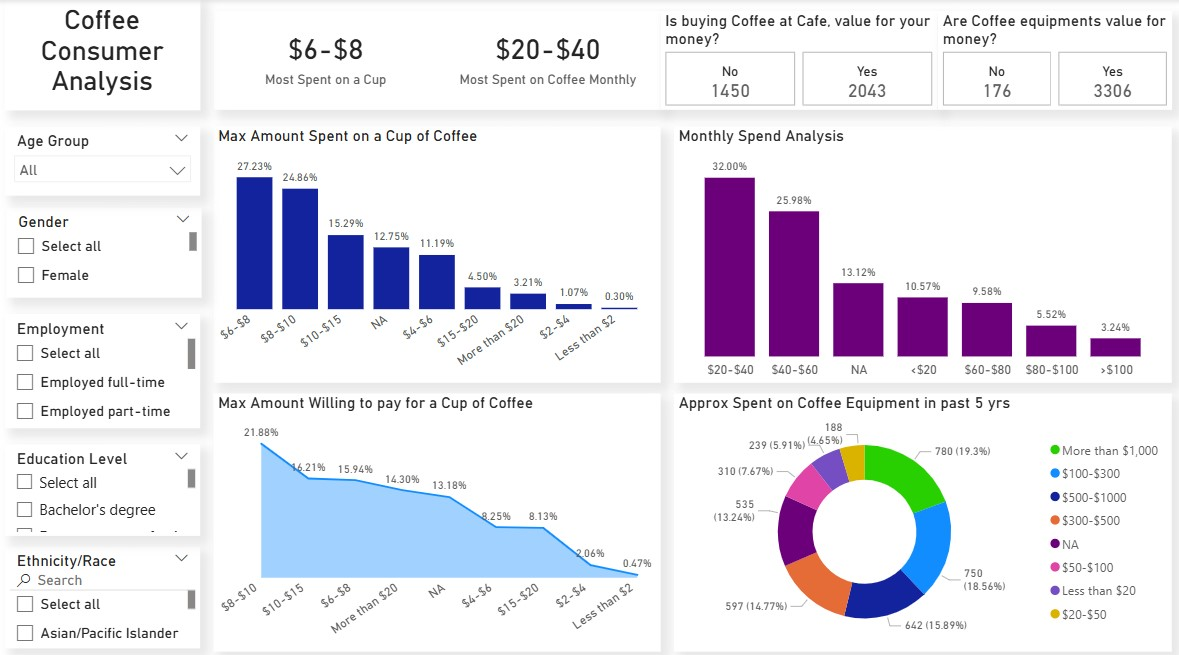

This screenshot's page, from the dashboard's own definition file:
{"tool":"powerbi","page":{"name":"Spending Analysis","canvas":[1280,720],"ordinal":3},"visuals":[{"type":"clusteredColumnChart","title":"Max Amount Spent on a Cup of Coffee","fields":{"Y":["CountNonNull(CoffeeData.Submission ID)"],"Category":["CoffeeData.What is the most you've ever paid for a cup of coffee?"]},"box":[234.8,137.6,482.5,276.9],"z":0},{"type":"slicer","fields":{"Values":["CoffeeData.Gender"]},"box":[11.3,225.1,210.5,97.2],"z":1000},{"type":"slicer","fields":{"Values":["CoffeeData.Ethnicity/Race"]},"box":[9.7,591,210.5,110.1],"z":2000},{"type":"slicer","fields":{"Values":["CoffeeData.What is your age?"]},"box":[9.7,137.6,210.5,74.5],"z":3000},{"type":"slicer","fields":{"Values":["CoffeeData.Employment Status"]},"box":[9.7,340,210.5,123.1],"z":4000},{"type":"slicer","fields":{"Values":["CoffeeData.Education Level"]},"box":[9.7,480.9,210.5,98.8],"z":5000},{"type":"areaChart","title":"Max Amount Willing to pay for a Cup of  Coffee","fields":{"Category":["CoffeeData.What is the most you'd ever be willing to pay for a cup of coffee?"],"Y":["Divide(Count(CoffeeData.Submission ID), ScopedEval(Count(CoffeeData.Submission ID), []))"]},"box":[234.8,425.9,482.5,278.5],"z":6000},{"type":"clusteredColumnChart","title":"Monthly Spend Analysis","fields":{"Category":["CoffeeData.In total, much money do you typically spend on coffee in a month?"],"Y":["CountNonNull(CoffeeData.Submission ID)"]},"box":[731.9,137.6,537.6,276.9],"z":7000},{"type":"donutChart","title":"Approx Spent on Coffee Equipment in past 5 yrs","fields":{"Category":["CoffeeData.Approximately how much have you spent on coffee equipment in the past 5 years?"],"Y":["CountNonNull(CoffeeData.Submission ID)"]},"box":[731.9,425.9,537.6,278.5],"z":8000},{"type":"cardVisual","fields":{"Data":["CoffeeTableMeasures.MostSpentCoffeeCup","CoffeeTableMeasures.MostSpentCoffeeMonthly"]},"box":[234.8,13,482.5,106.9],"z":9000},{"type":"advancedSlicerVisual","fields":{"Values":["CoffeeData.Do you feel like you’re getting good value for your money when you buy coffee at a cafe?"]},"box":[717.3,13,299.6,106.9],"z":10000},{"type":"advancedSlicerVisual","fields":{"Values":["CoffeeData.Do you feel like you’re getting good value for your money with regards to your coffee equipment?"]},"box":[1016.9,13,252.6,106.9],"z":11000},{"type":"textbox","box":[9.7,0,210.5,119.8],"z":12000}]}

Visuals, with their boxes on the page's 1280x720 design canvas (x1, y1, x2, y2). These are canvas units, not pixel positions in the 1179x655 screenshot, which may show the page scaled, cropped or inside an application window:
"Max Amount Spent on a Cup of Coffee" clusteredColumnChart: 235 138 717 414
slicer - CoffeeData.Gender: 11 225 222 322
slicer - CoffeeData.Ethnicity/Race: 10 591 220 701
slicer - CoffeeData.What is your age?: 10 138 220 212
slicer - CoffeeData.Employment Status: 10 340 220 463
slicer - CoffeeData.Education Level: 10 481 220 580
"Max Amount Willing to pay for a Cup of  Coffee" areaChart: 235 426 717 704
"Monthly Spend Analysis" clusteredColumnChart: 732 138 1270 414
"Approx Spent on Coffee Equipment in past 5 yrs" donutChart: 732 426 1270 704
cardVisual - CoffeeTableMeasures.MostSpentCoffeeCup x CoffeeTableMeasures.MostSpentCoffeeMonthly: 235 13 717 120
advancedSlicerVisual - CoffeeData.Do you feel like you’re getting good value for your money when you buy coffee at a cafe?: 717 13 1017 120
advancedSlicerVisual - CoffeeData.Do you feel like you’re getting good value for your money with regards to your coffee equipment?: 1017 13 1270 120
textbox: 10 0 220 120
